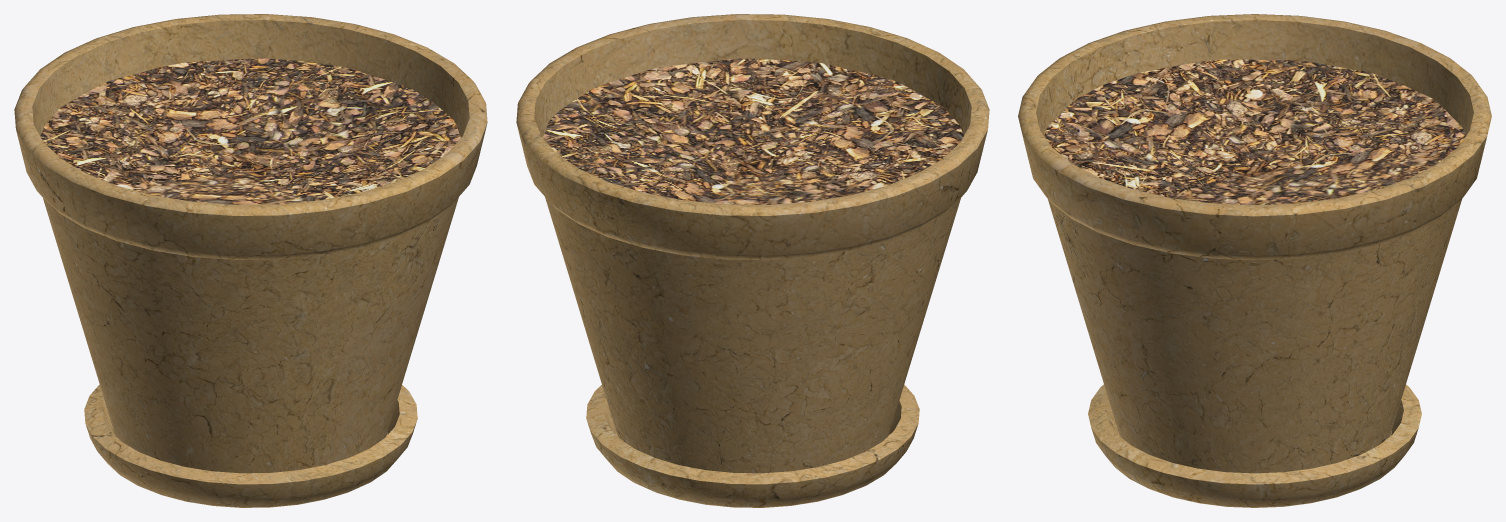
File: pot-bottom.glb
3 views of the same model, side by side, from view 1: azimuth 30°, elevation 25°; view 2: azimuth 150°, elevation 25°; view 3: azimuth 270°, elevation 25° (orthographic).
Parts seen in each view (by area): view 1: Cylinder_0; view 2: Cylinder_0; view 3: Cylinder_0.
Boxes of the visible parts, x1,y1,x2,y2 form: Cylinder_0: (14,14,487,507); Cylinder_0: (516,14,989,507); Cylinder_0: (1018,14,1491,507).
Size of the model in its own units: 0.268 by 0.2094 by 0.268.
2 materials, 2 textured.
